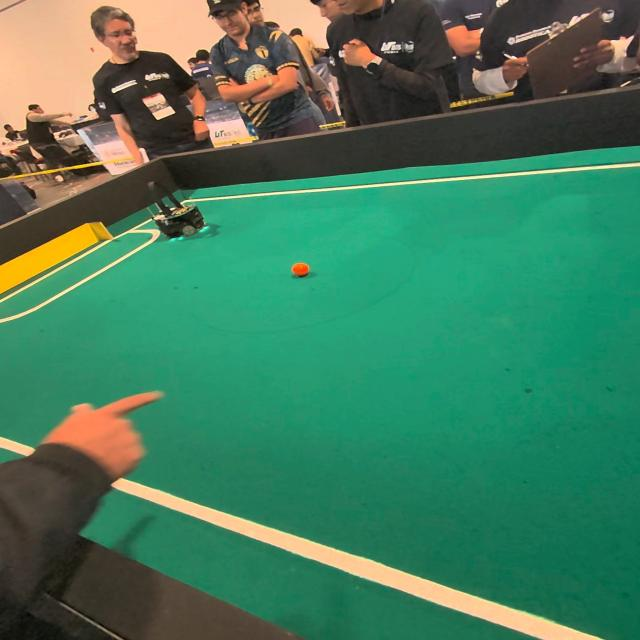Robot: (150, 185, 218, 247)
pelota: (272, 259, 318, 287)
